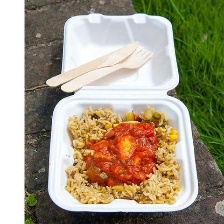foam_box: (43, 7, 204, 214)
